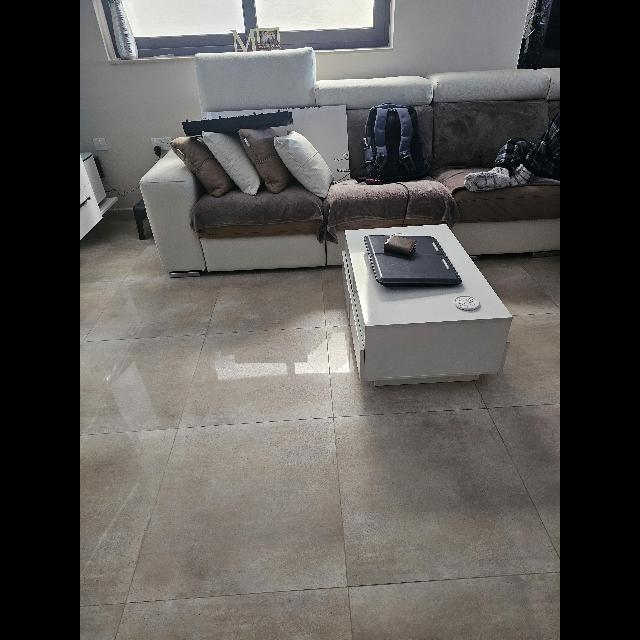Wallet: (382, 235, 418, 257)
